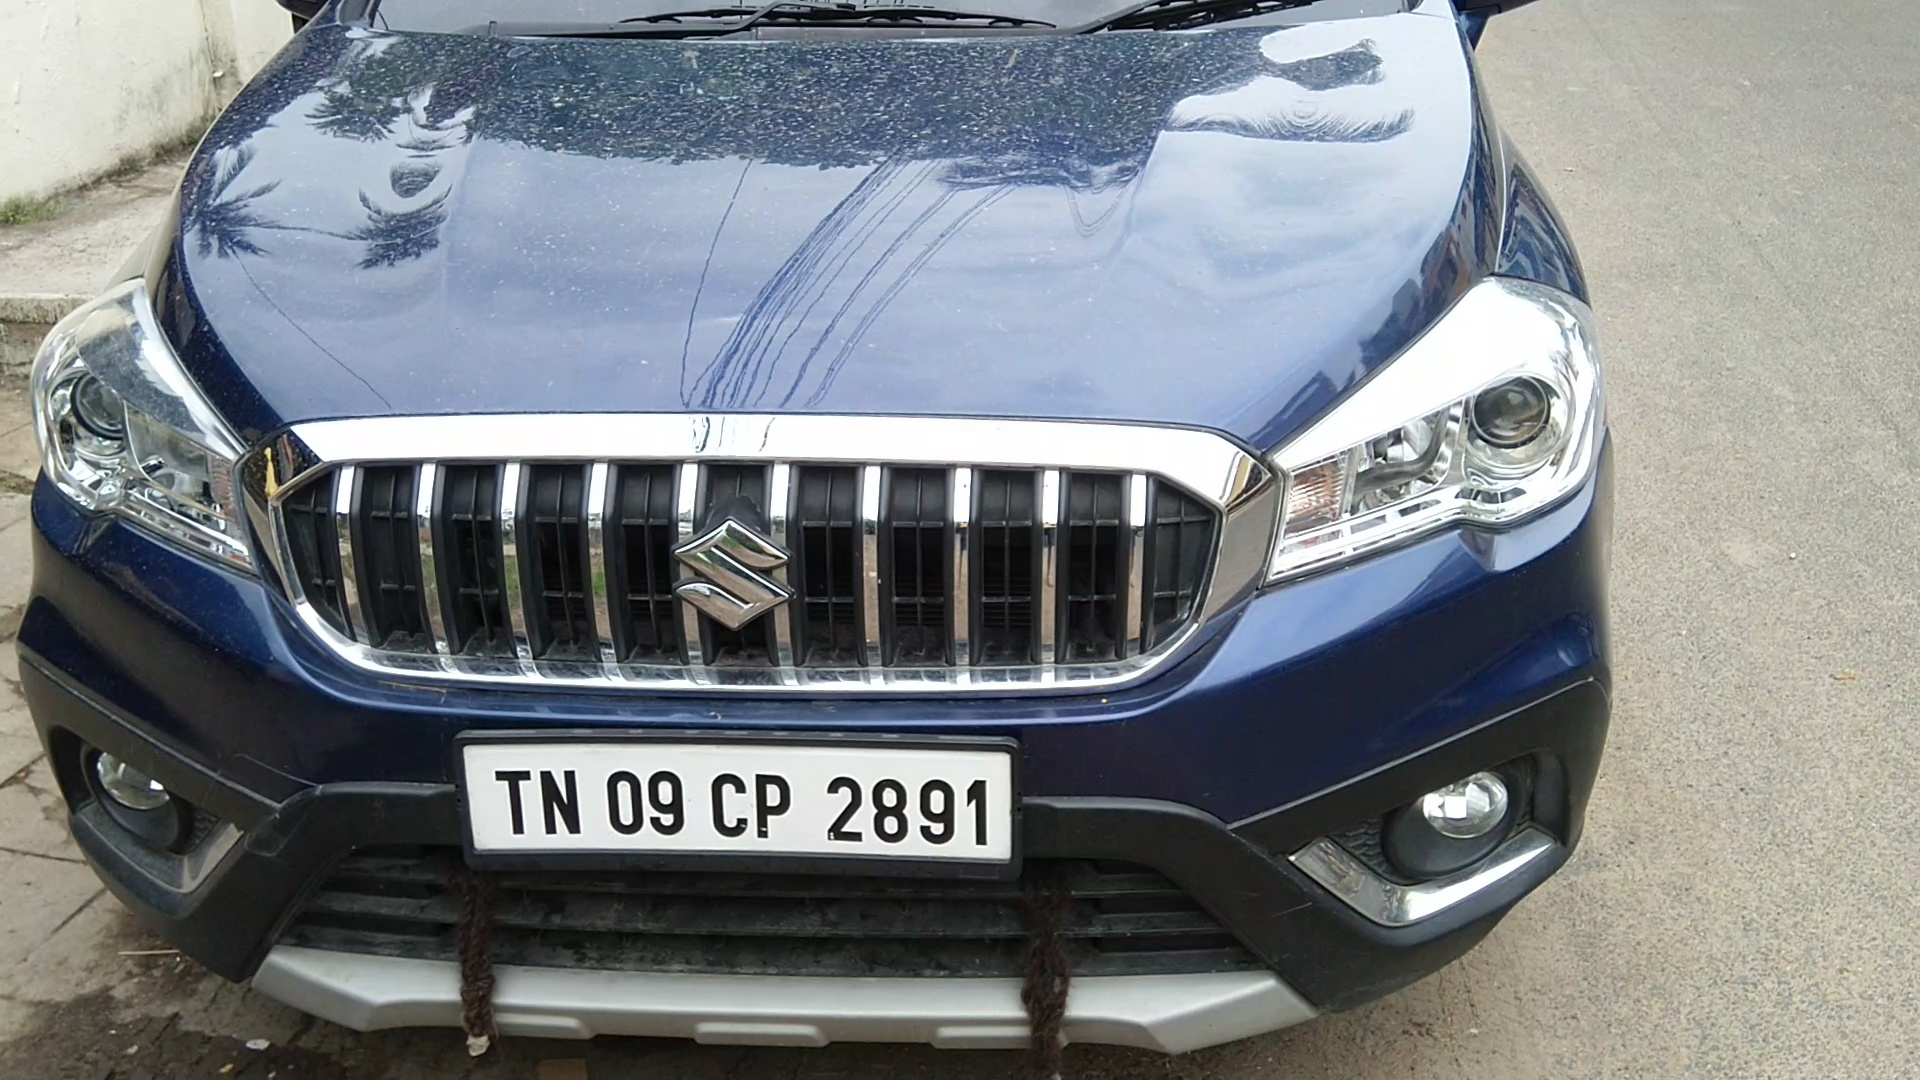front_grill: (237, 411, 1276, 687)
headlamp: (1279, 266, 1614, 593), (32, 272, 232, 587)
